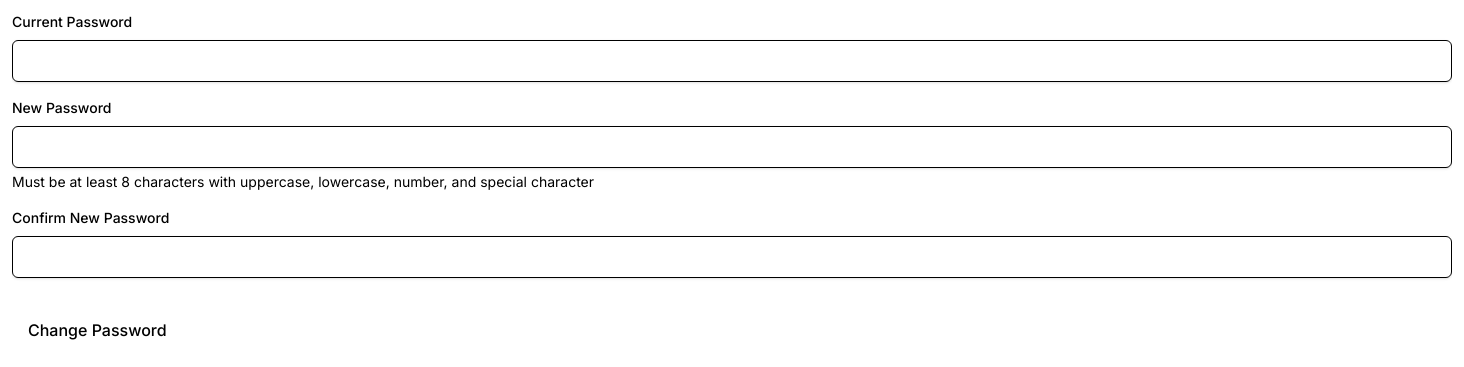
Scenario: ChangePasswordForm › shows validation error when new password is too short
Step 1. Type "oldPass123!" into the password field labelled "Current Password" → (732, 61), box [12,40,1452,82]
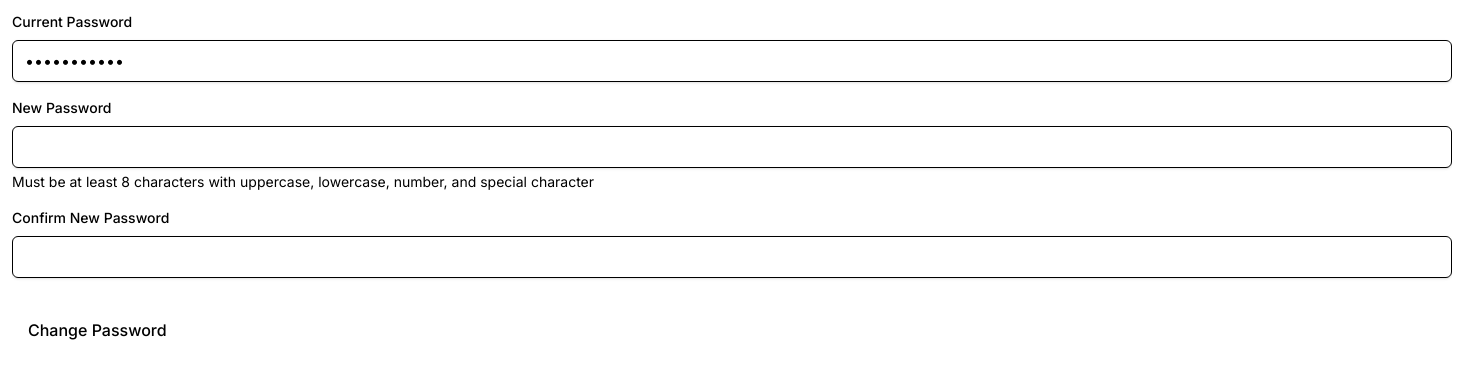
Step 2. Type "Short1!" into the password field labelled "New Password" → (732, 147), box [12,126,1452,168]
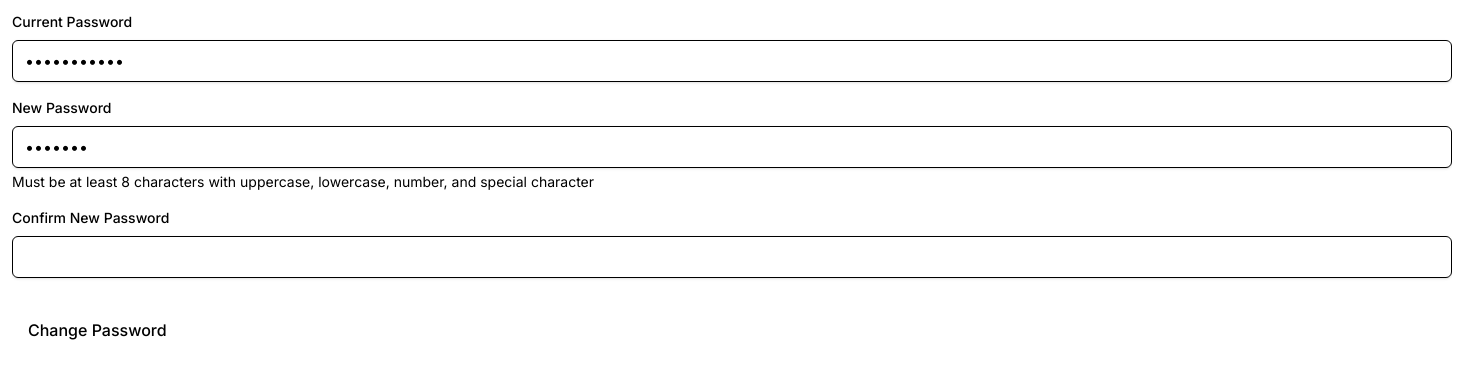
Step 3. Type "Short1!" into the password field labelled "Confirm New Password" → (732, 257), box [12,236,1452,278]
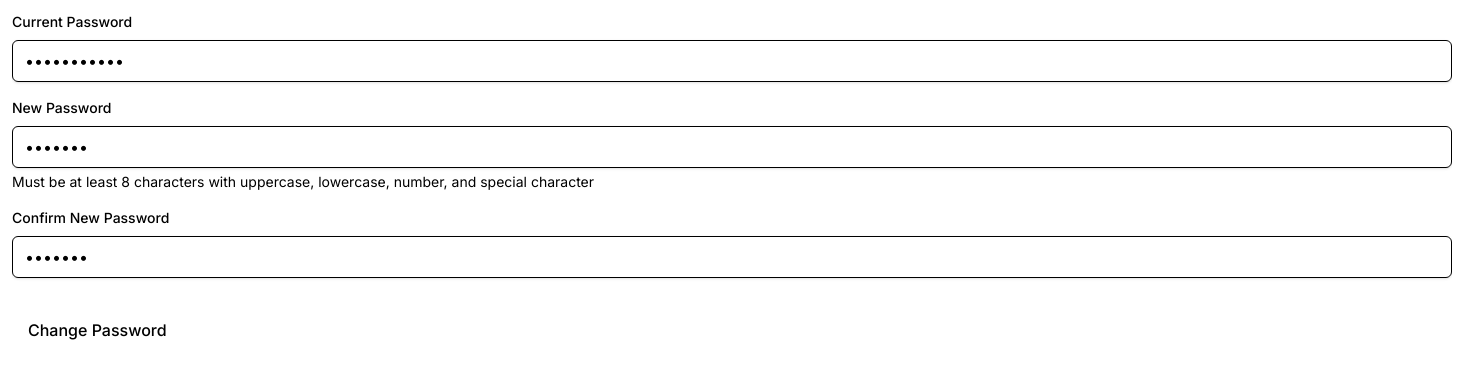
Step 4. Click the button "Change Password" → (97, 330), box [12,310,183,350]
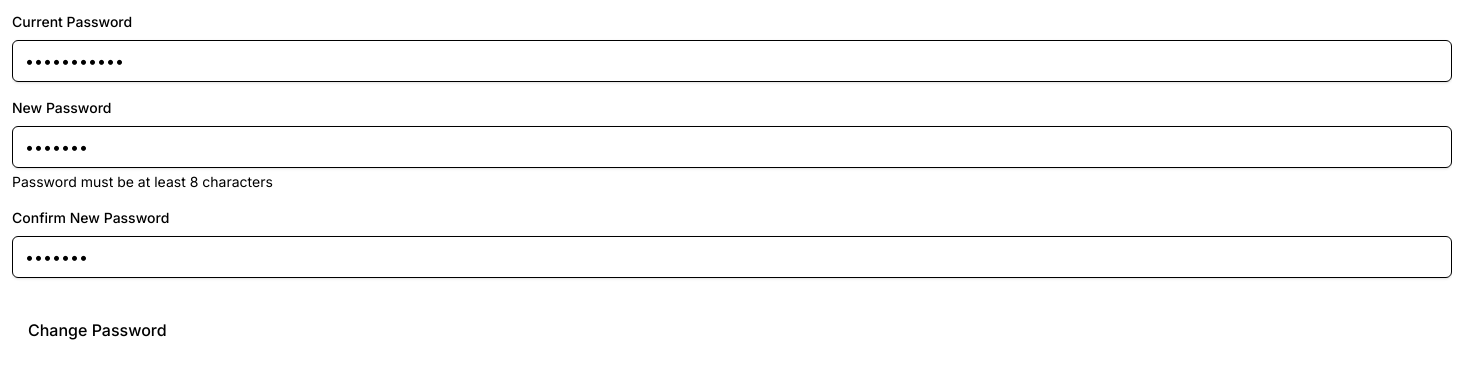
Result: the text "Password must be at least 8 characters" is shown at [12,173,273,190]
